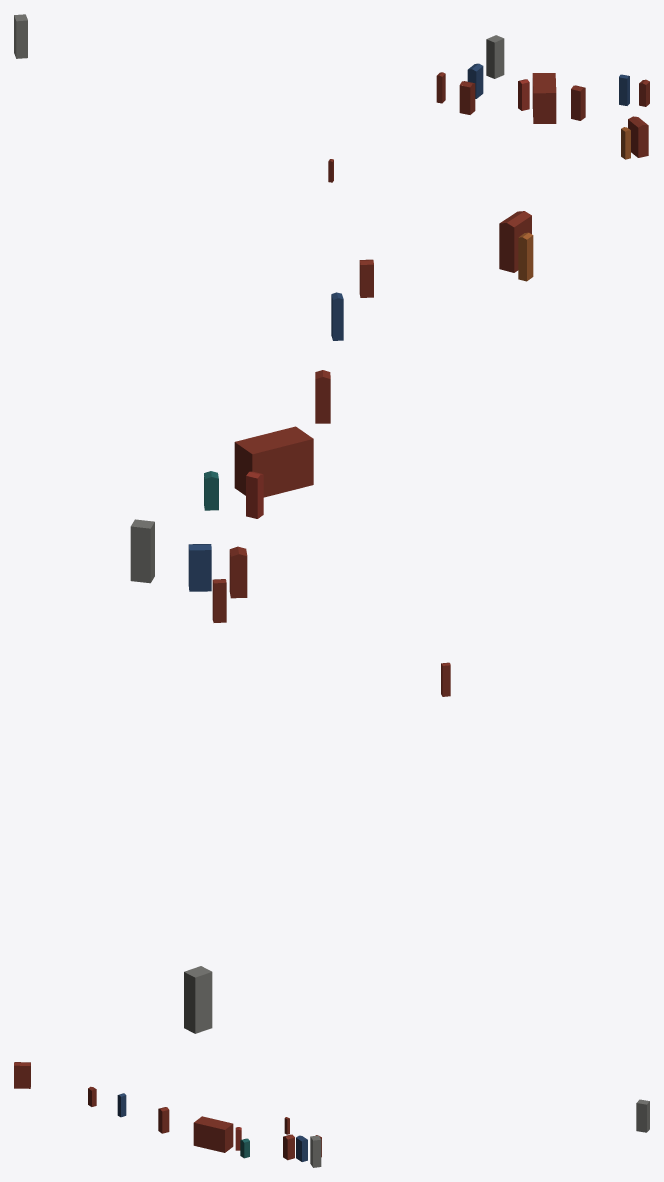
The model's file is near-15-27370-14876.45a8646f.glb.
3 views of the same model, one above another, from view 1: azimuth 30°, elevation 25°; view 2: azimuth 150°, elevation 25°; view 3: azimuth 270°, elevation 25° (orthographic). The views are drawn at different scales.
Size of the model in its own units: 173 by 116 by 473.
